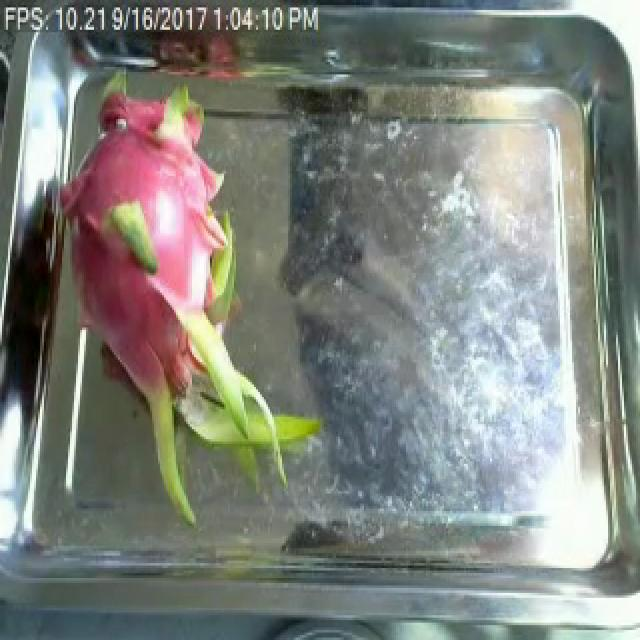fruit: (24, 102, 330, 516)
